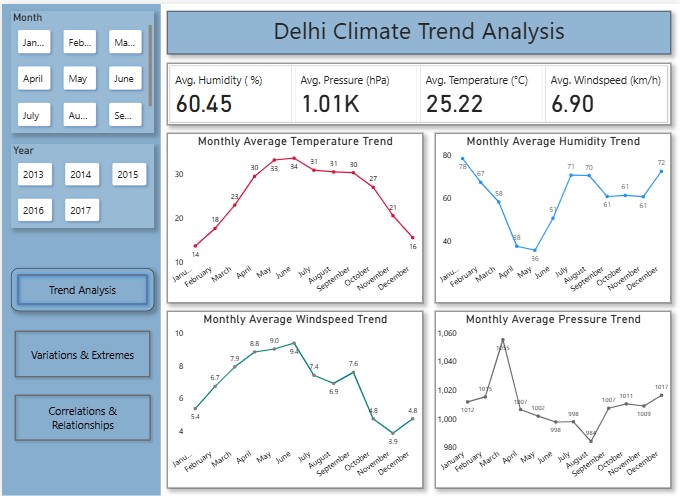

The dashboard page shown, as its layout file describes it:
{"tool":"powerbi","page":{"name":"Trend Analysis","canvas":[1700,1230],"ordinal":0},"visuals":[{"type":"lineChart","title":" Monthly Average Humidity Trend ","fields":{"Y":["Avg(cleaned_data.Humidity)"],"Category":["DateTable.Month"]},"box":[1082.5,322.5,590,425],"z":0},{"type":"lineChart","title":"Monthly Average Pressure Trend ","fields":{"Y":["Avg(cleaned_data.Meanpressure)"],"Category":["DateTable.Month"]},"box":[1082.5,767.5,590,442.5],"z":1000},{"type":"lineChart","title":"Monthly Average Windspeed Trend ","fields":{"Y":["Avg(cleaned_data.Wind_speed)"],"Category":["DateTable.Month"]},"box":[412.5,767.5,640,442.5],"z":2000},{"type":"lineChart","title":"Monthly Average Temperature Trend","fields":{"Y":["Avg(cleaned_data.Meantemp)"],"Category":["DateTable.Month"]},"box":[412.5,322.5,640,425],"z":3000},{"type":"advancedSlicerVisual","fields":{"Values":["DateTable.Month"]},"box":[22.5,17.5,357.5,305],"z":4000},{"type":"advancedSlicerVisual","fields":{"Values":["DateTable.Year"]},"box":[22.5,350,357.5,210],"z":5000},{"type":"textbox","box":[412.5,17.5,1260,107.5],"z":8000},{"type":"actionButton","box":[22.5,807.5,357.5,135],"z":9000},{"type":"actionButton","box":[22.5,660,357.5,107.5],"z":10000},{"type":"actionButton","box":[21.8,968.5,358.3,133.2],"z":11000},{"type":"cardVisual","fields":{"Data":["Avg(cleaned_data.Humidity)","Avg(cleaned_data.Meanpressure)","Avg(cleaned_data.Meantemp)","Avg(cleaned_data.Wind_speed)"]},"box":[412.5,147.5,1260,155],"z":12000}]}

Visuals, with their boxes in screenshot pixels (x1, y1, x2, y2), scaled from the page's 1700x1230 canvas onto the 680x496 screenshot:
" Monthly Average Humidity Trend " lineChart: crop(433, 130, 669, 301)
"Monthly Average Pressure Trend " lineChart: crop(433, 309, 669, 488)
"Monthly Average Windspeed Trend " lineChart: crop(165, 309, 421, 488)
"Monthly Average Temperature Trend" lineChart: crop(165, 130, 421, 301)
advancedSlicerVisual - DateTable.Month: crop(9, 7, 152, 130)
advancedSlicerVisual - DateTable.Year: crop(9, 141, 152, 226)
textbox: crop(165, 7, 669, 50)
actionButton: crop(9, 326, 152, 380)
actionButton: crop(9, 266, 152, 309)
actionButton: crop(9, 391, 152, 444)
cardVisual - Avg(cleaned_data.Humidity) x Avg(cleaned_data.Meanpressure): crop(165, 59, 669, 122)
